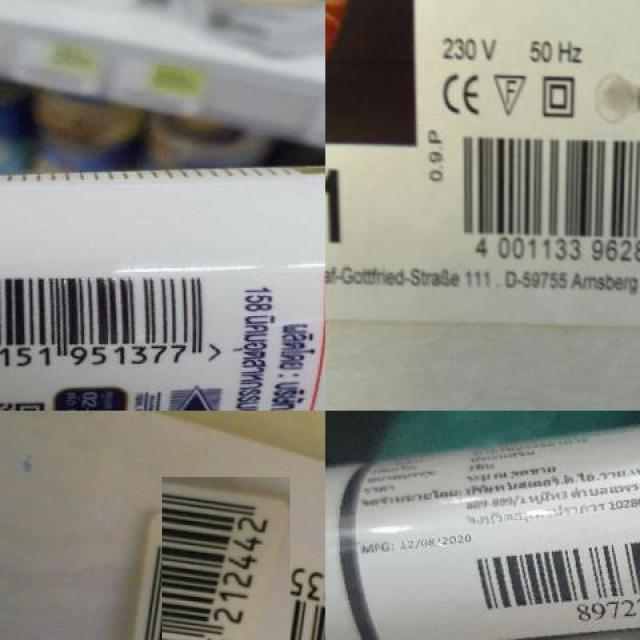Barcode: (448, 132, 640, 271), (144, 495, 307, 640), (0, 270, 219, 374), (444, 516, 640, 627)
